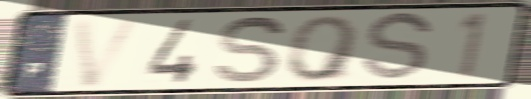1: (454, 10, 488, 82)
4: (144, 17, 199, 85)
Q: (284, 13, 364, 84)
S: (358, 9, 437, 86), (213, 13, 288, 86)
V: (69, 15, 148, 90)
